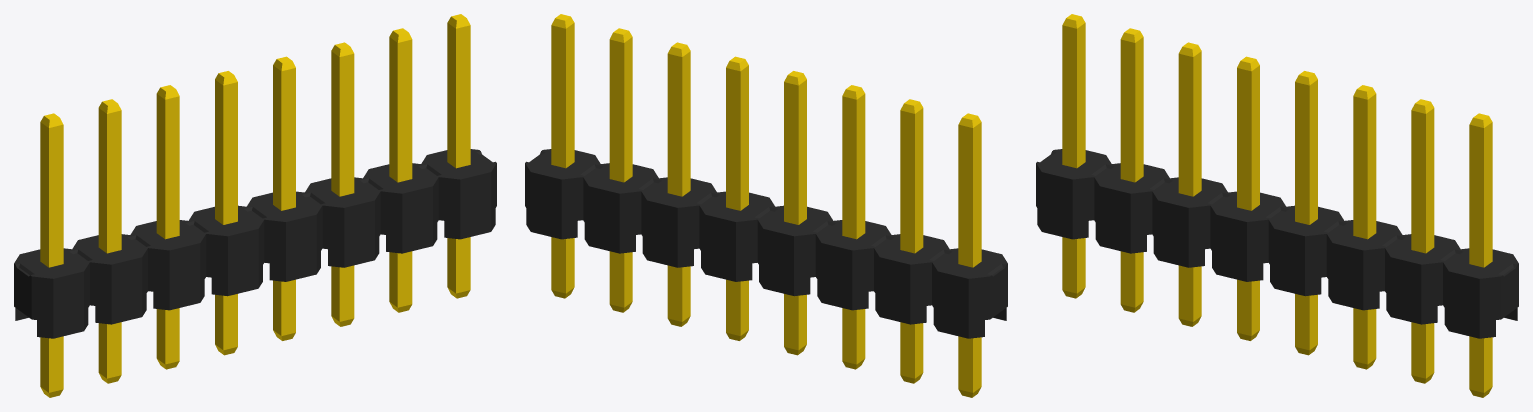
The model's file is PLS8.glb.
3 views of the same model, side by side, from view 1: azimuth 30°, elevation 25°; view 2: azimuth 150°, elevation 25°; view 3: azimuth 330°, elevation 25° (orthographic).
Visible parts, largest first — view 1: PLS (DS1021 CONNFLY); view 2: PLS (DS1021 CONNFLY); view 3: PLS (DS1021 CONNFLY).
Boxes of the visible parts, box(x1,y1,x2,y2) form: PLS (DS1021 CONNFLY): box(14, 14, 496, 397); PLS (DS1021 CONNFLY): box(525, 14, 1007, 397); PLS (DS1021 CONNFLY): box(1036, 14, 1518, 397).
Bounding box in the file's own units: 0.0203 × 0.0116 × 0.00254.
